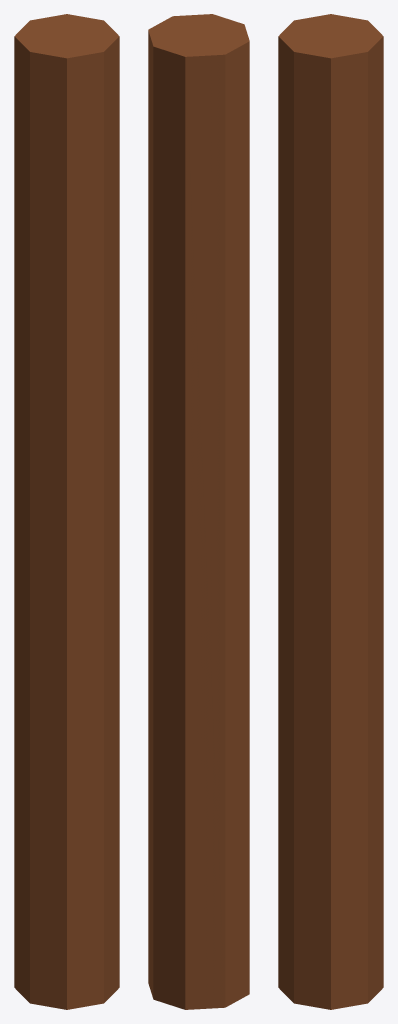
Rendered from fence_post.glb.
The picture shows the model from 3 angles, left to right: view 1: azimuth 90°, elevation 25°; view 2: azimuth 210°, elevation 25°; view 3: azimuth 270°, elevation 25°; orthographic projection.
Visible parts, largest first — view 1: post; view 2: post; view 3: post.
Part boxes in pixels (<box>): post: <box>14,14,119,1009</box>; post: <box>148,14,249,1009</box>; post: <box>278,14,383,1009</box>.
Bounding box in the file's own units: 0.16 × 1.6 × 0.16.
